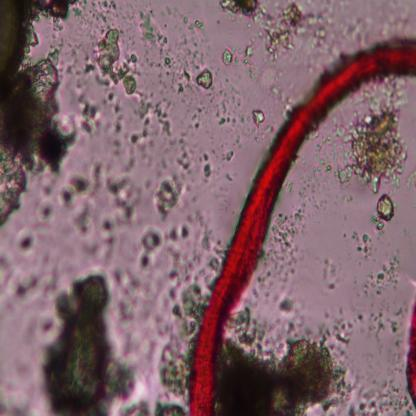Background material: (0, 15, 81, 232), (48, 264, 134, 416), (216, 335, 353, 416), (106, 265, 172, 368), (330, 109, 407, 197), (156, 289, 206, 396), (267, 189, 310, 282), (84, 161, 143, 224), (92, 29, 140, 94), (230, 308, 285, 362), (260, 0, 308, 59), (126, 87, 180, 138), (166, 236, 220, 286), (134, 223, 190, 271), (0, 256, 57, 302), (81, 212, 121, 266), (356, 76, 412, 114), (348, 378, 403, 416), (364, 247, 402, 297), (204, 73, 243, 113), (306, 8, 338, 54), (153, 168, 185, 212), (104, 92, 124, 159), (330, 308, 364, 347), (214, 0, 263, 27), (23, 0, 77, 21), (72, 196, 96, 243), (139, 10, 168, 48), (76, 91, 101, 135), (59, 173, 88, 206), (0, 390, 38, 415), (64, 41, 83, 91), (124, 131, 146, 174), (242, 36, 262, 82), (321, 253, 345, 291), (192, 210, 214, 251), (365, 307, 390, 343), (181, 12, 209, 44), (313, 133, 334, 175), (84, 0, 118, 25), (177, 131, 193, 182), (350, 230, 373, 265), (217, 42, 243, 70), (14, 227, 39, 255), (272, 83, 292, 118), (277, 297, 307, 318), (289, 316, 314, 340), (33, 198, 56, 223), (154, 398, 185, 416), (391, 303, 407, 337), (378, 194, 397, 222), (187, 106, 208, 130), (174, 67, 192, 94), (298, 156, 311, 190), (124, 401, 153, 416), (38, 312, 55, 337), (218, 114, 248, 128), (142, 49, 160, 71), (310, 176, 328, 198), (196, 67, 212, 91), (160, 49, 176, 72), (317, 322, 331, 348), (259, 274, 272, 299), (200, 153, 212, 180), (250, 104, 264, 126), (160, 4, 181, 18), (81, 62, 97, 78), (38, 181, 56, 195), (373, 215, 385, 235), (70, 5, 87, 19), (310, 198, 328, 210), (403, 398, 413, 416), (337, 193, 354, 203), (406, 170, 416, 187), (286, 180, 297, 195), (220, 149, 235, 160), (233, 135, 242, 150), (394, 337, 404, 349), (224, 172, 233, 182), (402, 227, 410, 237), (323, 311, 331, 319), (343, 212, 347, 222), (253, 288, 258, 296), (343, 233, 347, 238)
Cotton: (188, 44, 416, 416), (406, 304, 416, 408)
Diatom: (0, 0, 26, 84)
